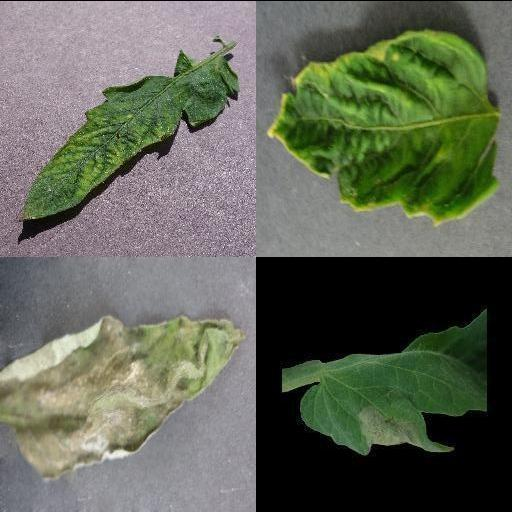Late Blight: (0, 309, 248, 485), (295, 309, 487, 455)
Mosaic Virus: (13, 50, 240, 223)
Yellow Leaf Curl Virus: (266, 28, 500, 226)
